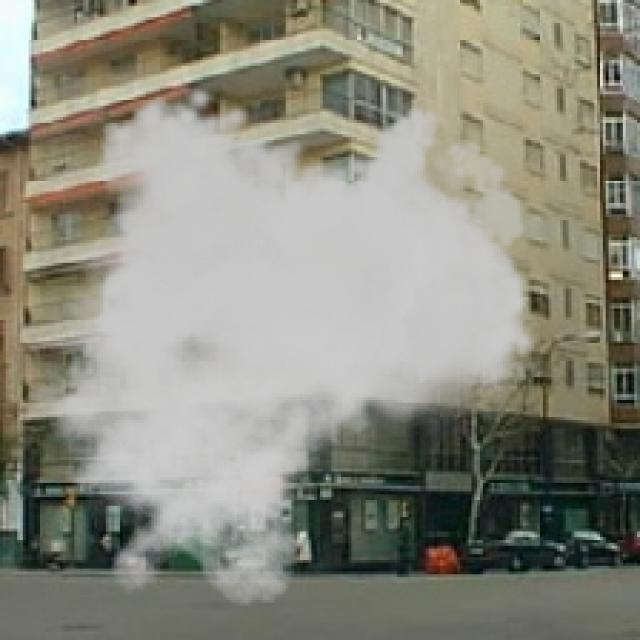smoke: (6, 83, 540, 608)
